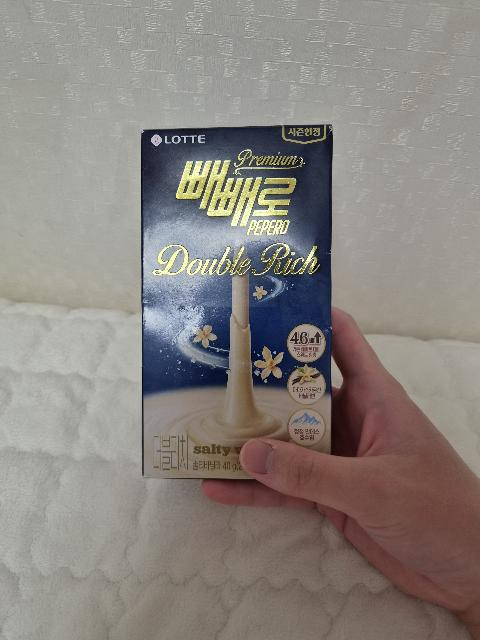pepero: (141, 124, 333, 480)
